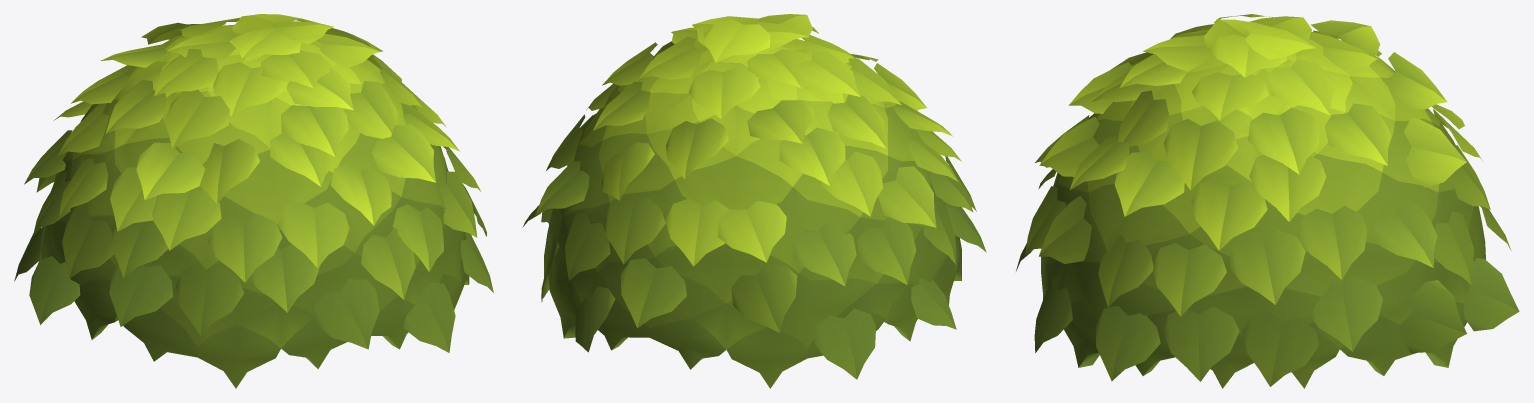
Rendered from elf_foliage_big.fbx.
The picture shows the model from 3 angles, left to right: view 1: azimuth 30°, elevation 25°; view 2: azimuth 150°, elevation 25°; view 3: azimuth 270°, elevation 25°; orthographic projection. The views are drawn at different scales.
Parts seen in each view (by area): view 1: elf_foliage_big; view 2: elf_foliage_big; view 3: elf_foliage_big.
Boxes of the visible parts, box(x1,y1,x2,y2) form: elf_foliage_big: box(14, 14, 493, 388); elf_foliage_big: box(522, 14, 986, 388); elf_foliage_big: box(1016, 14, 1519, 388).
Bounding box in the file's own units: 754 × 484 × 760.
